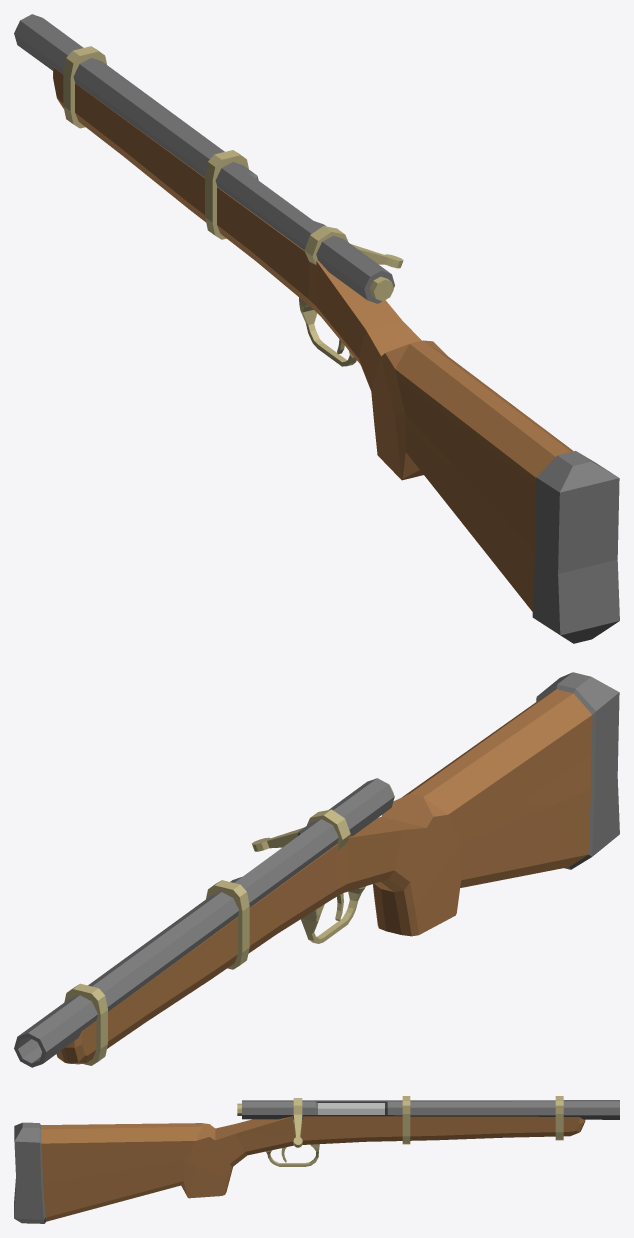
The model's file is BoltAction-Rifles-A-Short.fbx.
3 renders of one model, top to bottom at view 1: azimuth 30°, elevation 25°; view 2: azimuth 150°, elevation 25°; view 3: azimuth 270°, elevation 25°, orthographic. The views are drawn at different scales.
Visible parts, largest first — view 1: SniperRifle-A.003; view 2: SniperRifle-A.003; view 3: SniperRifle-A.003.
Part boxes in pixels (x1=…): SniperRifle-A.003: x1=14, y1=14, x2=619, y2=643; SniperRifle-A.003: x1=14, y1=672, x2=619, y2=1067; SniperRifle-A.003: x1=14, y1=1096, x2=619, y2=1223.
Size of the model in its own units: 123 by 255 by 1138.
